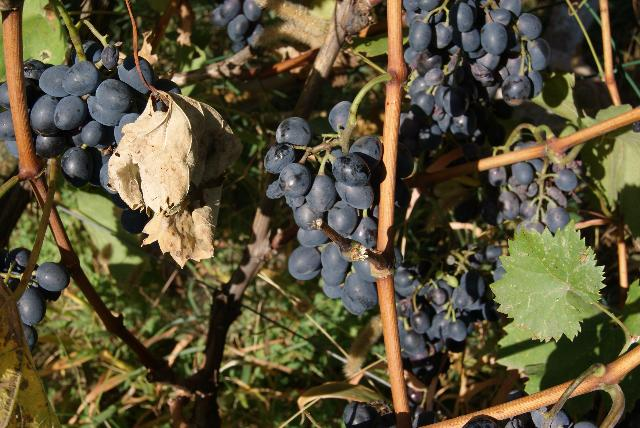grapes: (264, 101, 400, 315), (402, 0, 592, 120), (25, 42, 150, 188)
